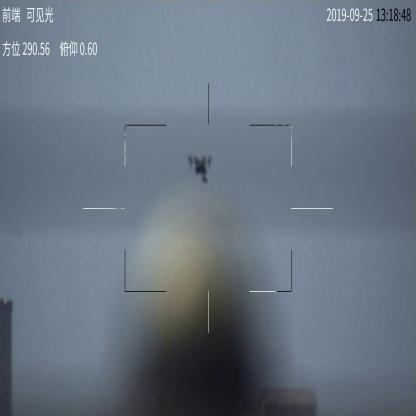uav: (186, 155, 215, 182)
